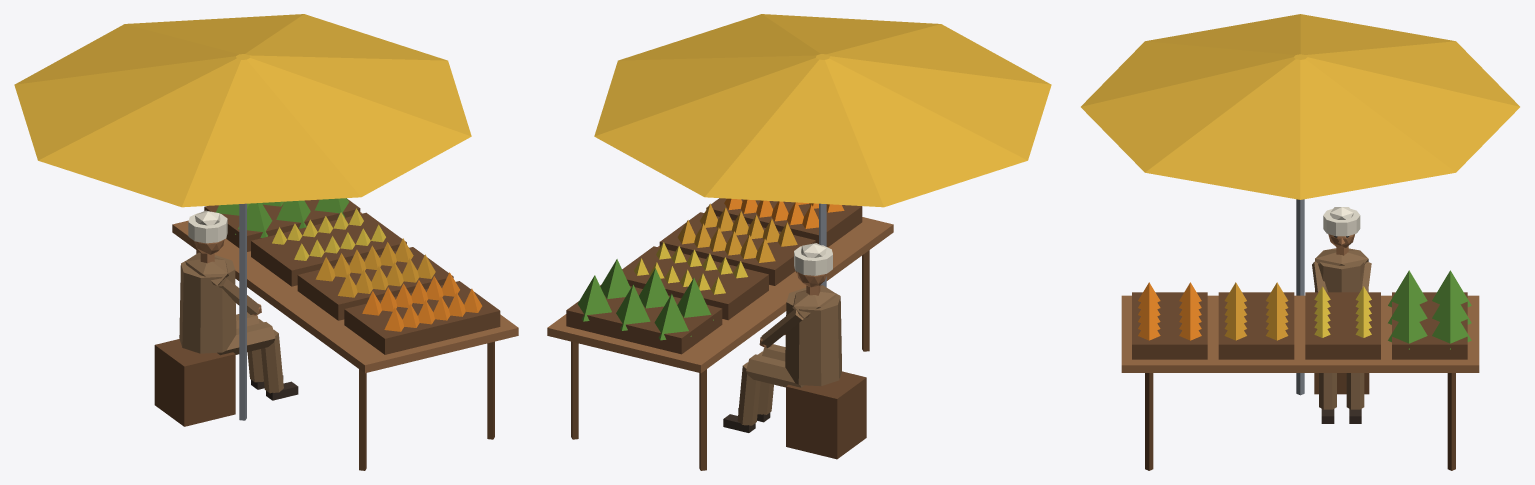
The model's file is fruktstand.glb.
3 renders of one model, left to right at view 1: azimuth 30°, elevation 25°; view 2: azimuth 150°, elevation 25°; view 3: azimuth 270°, elevation 25°, orthographic. The views are drawn at different scales.
Visible parts, largest first — view 1: fruktstand; view 2: fruktstand; view 3: fruktstand.
Boxes of the visible parts, x1,y1,x2,y2 form: fruktstand: (14, 14, 518, 470); fruktstand: (547, 14, 1051, 470); fruktstand: (1081, 14, 1519, 470).
Bounding box in the file's own units: 3.2 × 2.71 × 3.2.
